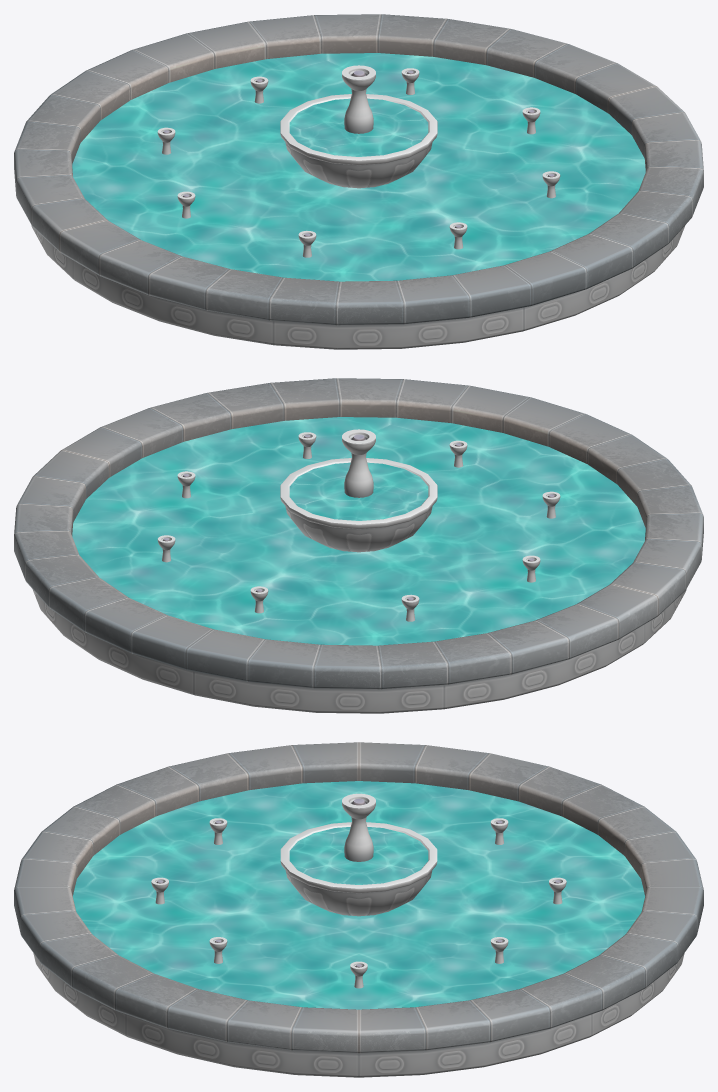
The model's file is ParkFountain01_2.FBX.
3 renders of one model, top to bottom at view 1: azimuth 30°, elevation 25°; view 2: azimuth 150°, elevation 25°; view 3: azimuth 270°, elevation 25°, orthographic.
Visible parts, largest first — view 1: ParkFountain01_2; view 2: ParkFountain01_2; view 3: ParkFountain01_2.
Part boxes in pixels (box(x1,y1,x2,y2)): ParkFountain01_2: box(14, 14, 703, 349); ParkFountain01_2: box(14, 378, 703, 713); ParkFountain01_2: box(14, 742, 703, 1077).
Size of what is drawn, in the model's own units: 5.65 by 1.25 by 5.65.
